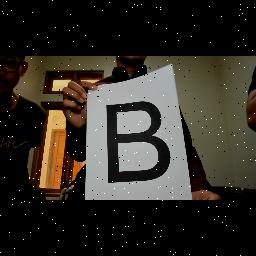b: (104, 99, 174, 187)
